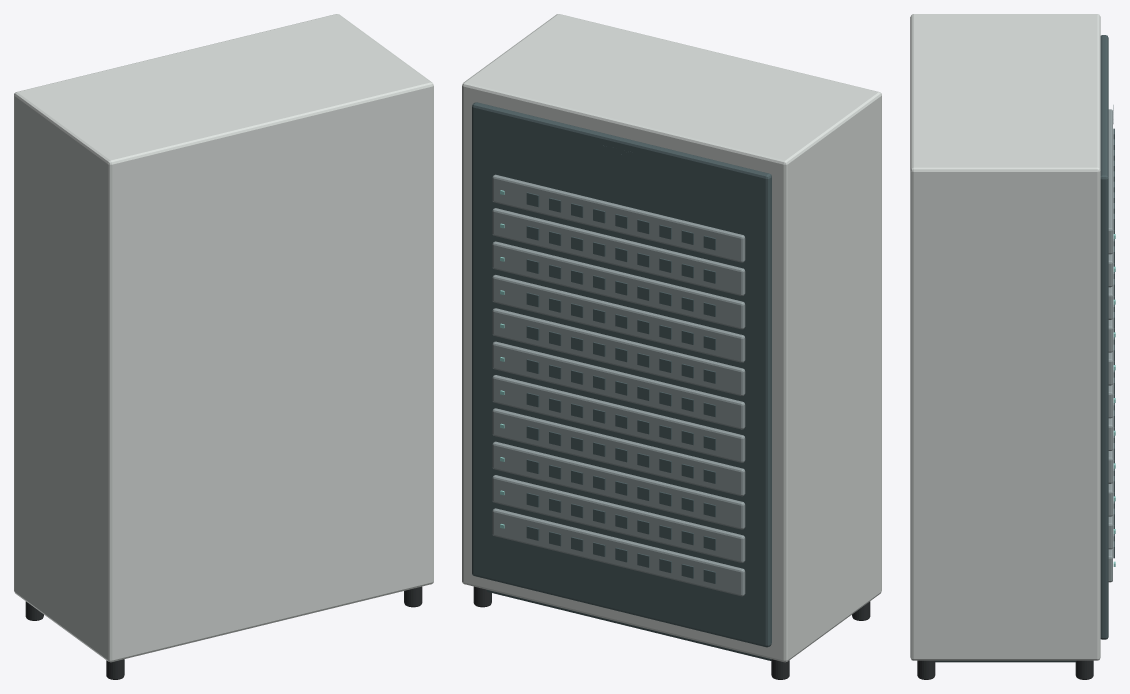
File: ServerRack.fbx
The picture shows the model from 3 angles, left to right: view 1: azimuth 30°, elevation 25°; view 2: azimuth 150°, elevation 25°; view 3: azimuth 270°, elevation 25°; orthographic projection.
Visible parts, largest first — view 1: ServerRack; view 2: ServerRack; view 3: ServerRack.
Part boxes in pixels (<box>): ServerRack: <box>14,14,433,679</box>; ServerRack: <box>462,14,881,679</box>; ServerRack: <box>910,14,1115,679</box>.
Bounding box in the file's own units: 140 × 215 × 77.65.
